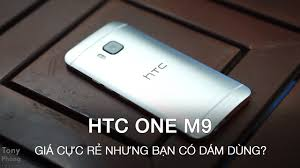htc: (56, 17, 257, 138)
